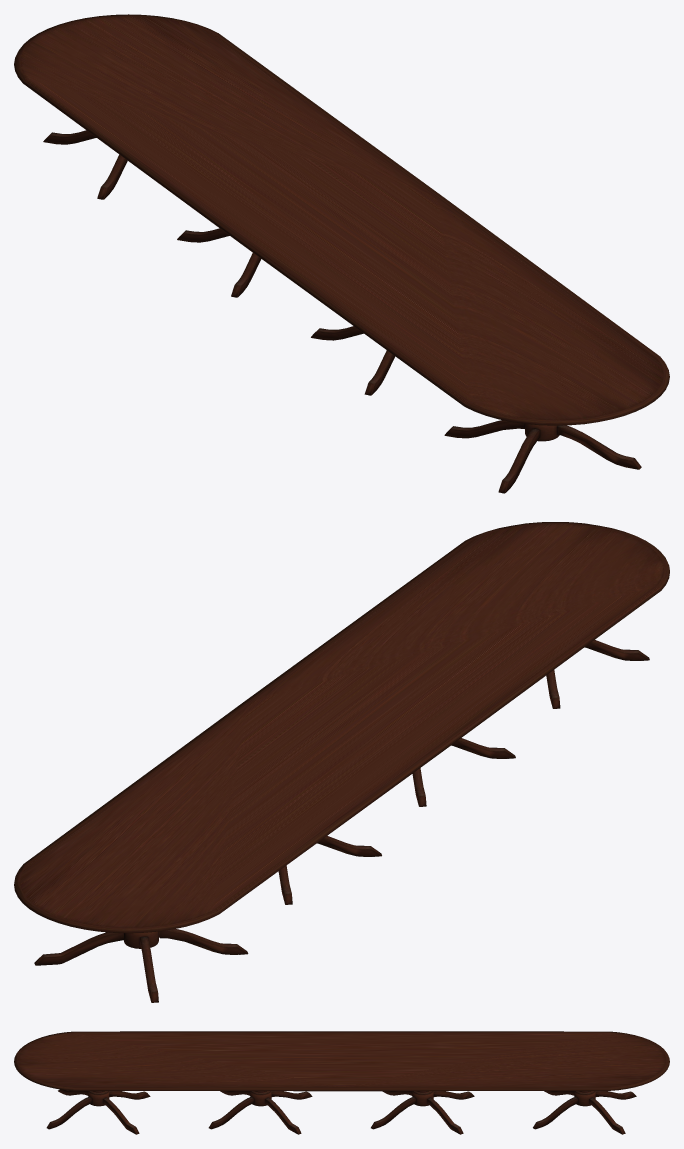
Rendered from banquet-table.glb.
The picture shows the model from 3 angles, top to bottom: view 1: azimuth 30°, elevation 25°; view 2: azimuth 150°, elevation 25°; view 3: azimuth 270°, elevation 25°; orthographic projection. The views are drawn at different scales.
Parts seen in each view (by area): view 1: Rounded end tabletop, Turned pedestal 4, Turned pedestal 3, Pedestal master, Turned pedestal 2; view 2: Rounded end tabletop, Pedestal master, Turned pedestal 4, Turned pedestal 2, Turned pedestal 3; view 3: Rounded end tabletop, Turned pedestal 4, Turned pedestal 2, Turned pedestal 3, Pedestal master.
Boxes of the visible parts, x1=… form: Rounded end tabletop: x1=14, y1=14, x2=669, y2=425; Turned pedestal 4: x1=444, y1=420, x2=641, y2=493; Turned pedestal 3: x1=311, y1=326, x2=395, y2=395; Pedestal master: x1=43, y1=130, x2=127, y2=199; Turned pedestal 2: x1=177, y1=228, x2=261, y2=297; Rounded end tabletop: x1=14, y1=522, x2=669, y2=933; Pedestal master: x1=34, y1=929, x2=248, y2=1002; Turned pedestal 4: x1=546, y1=640, x2=649, y2=708; Turned pedestal 2: x1=278, y1=836, x2=381, y2=904; Turned pedestal 3: x1=412, y1=738, x2=515, y2=806; Rounded end tabletop: x1=14, y1=1031, x2=669, y2=1091; Turned pedestal 4: x1=46, y1=1089, x2=150, y2=1134; Turned pedestal 2: x1=371, y1=1091, x2=474, y2=1134; Turned pedestal 3: x1=208, y1=1091, x2=312, y2=1134; Pedestal master: x1=533, y1=1091, x2=636, y2=1134.
Size of the model in its own units: 1.8 by 0.7495 by 8.5.
2 materials, 2 textured.
